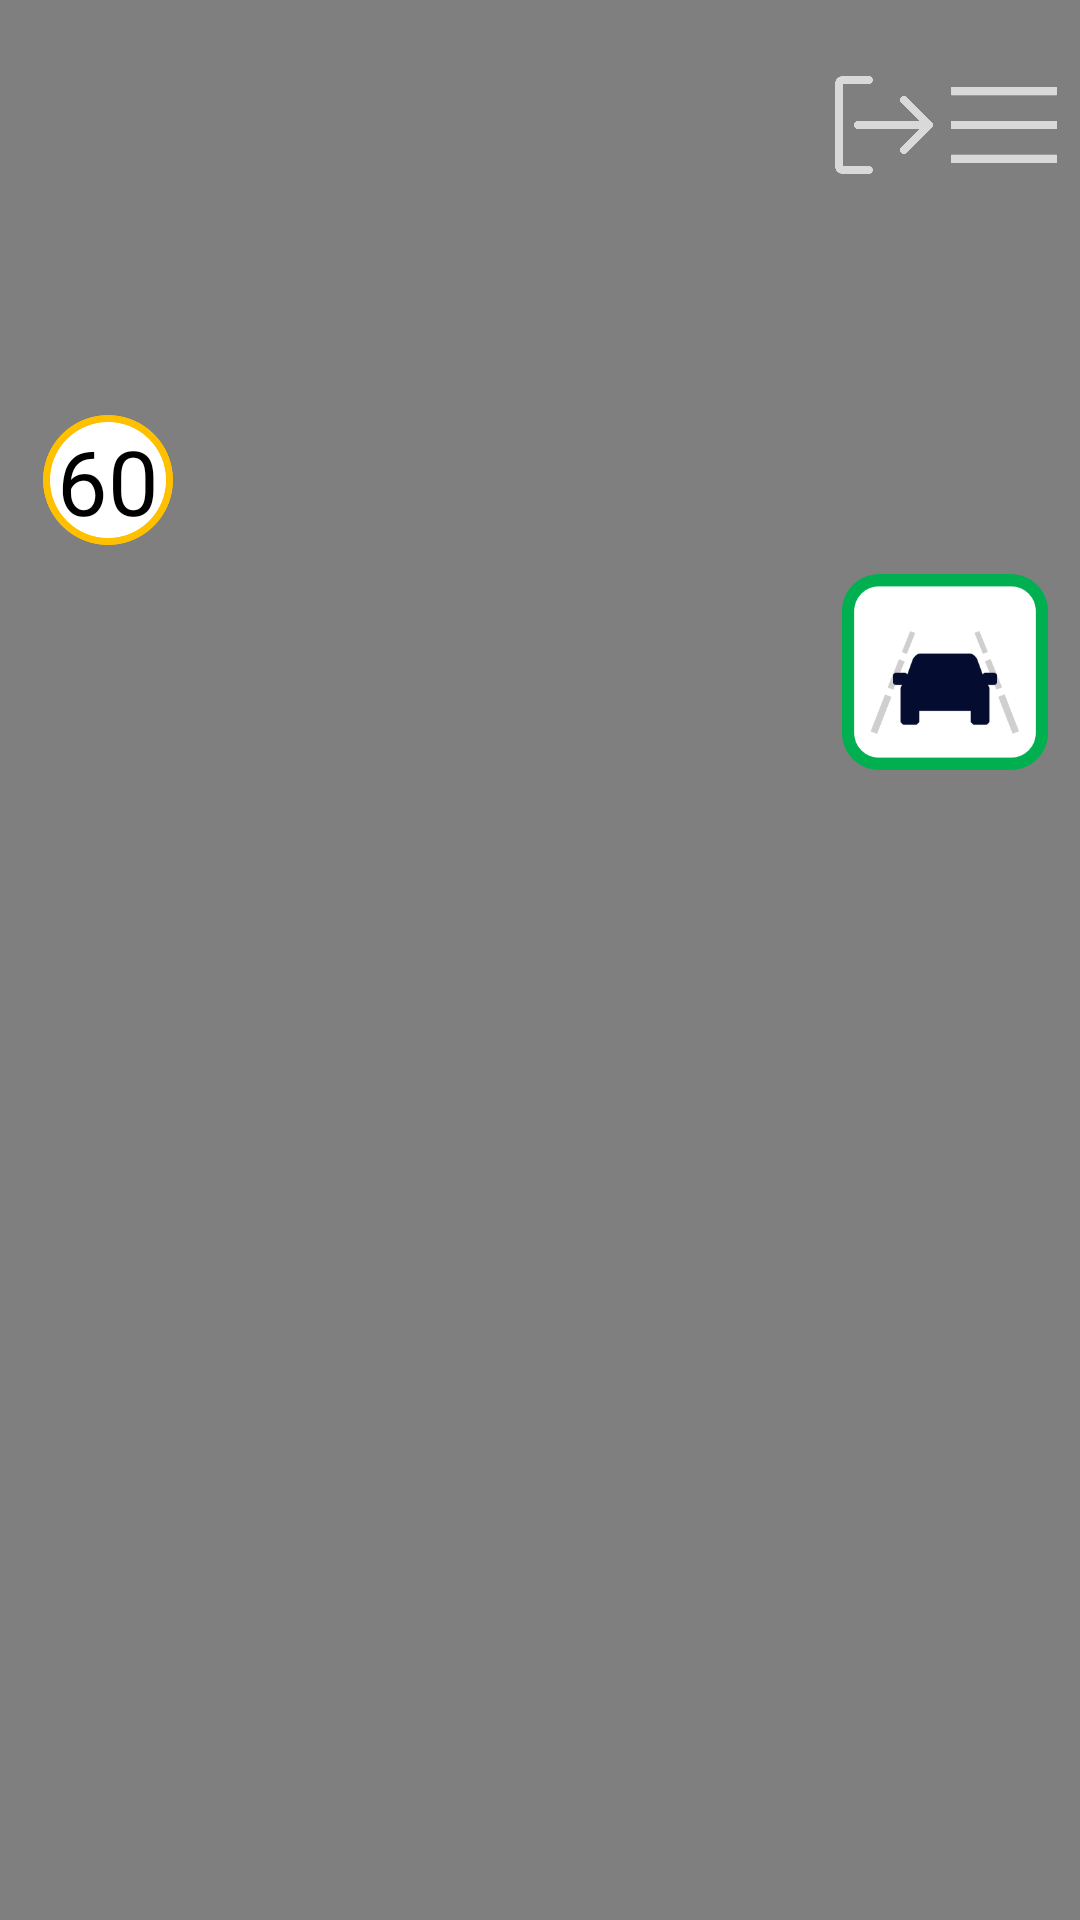

Icons on this 1080 x 1920 Android screen, each with its box as [x1=x1, y1=y1, x2=x2, y2=y2]:
menu: [x1=951, y1=87, x2=1057, y2=163]
out: [x1=835, y1=76, x2=933, y2=174]
speed: [x1=43, y1=415, x2=173, y2=545]
